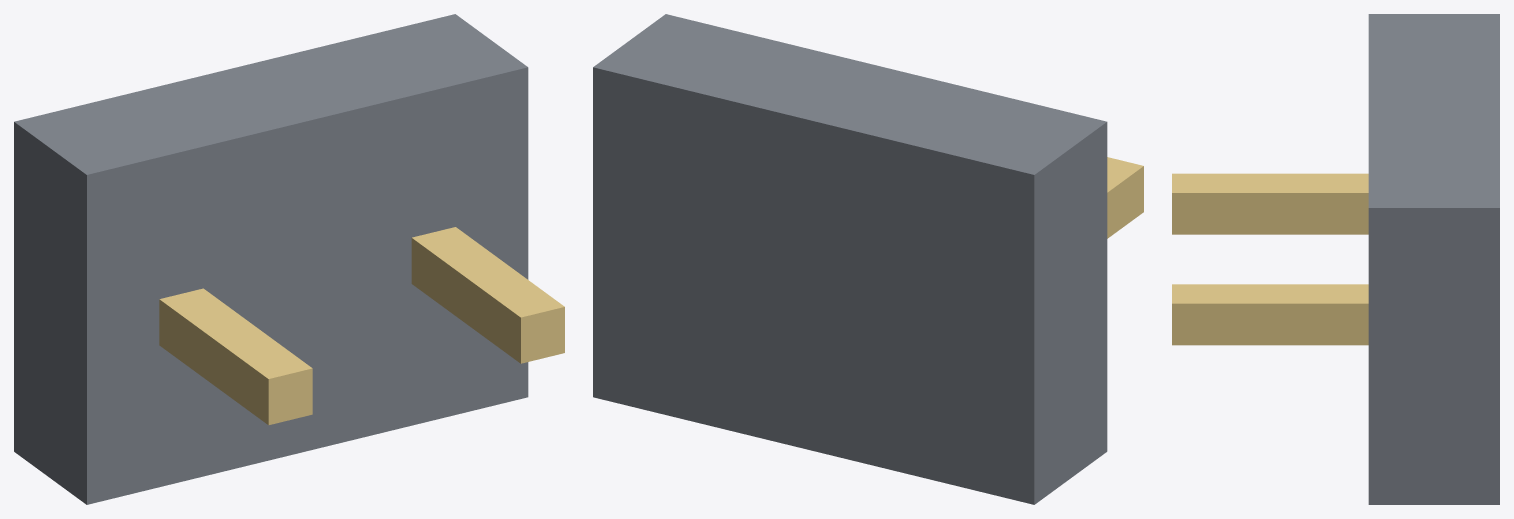
File: 147_L110_W173_Socket.glb
3 renders of one model, left to right at view 1: azimuth 30°, elevation 25°; view 2: azimuth 150°, elevation 25°; view 3: azimuth 270°, elevation 25°, orthographic. The views are drawn at different scales.
Parts seen in each view (by area): view 1: L110_W173_Socket_POLYMER, L110_W173_Socket_GOLD; view 2: L110_W173_Socket_POLYMER, L110_W173_Socket_GOLD; view 3: L110_W173_Socket_POLYMER, L110_W173_Socket_GOLD.
Boxes of the visible parts, bbox=[...] form: L110_W173_Socket_POLYMER: bbox=[14, 14, 528, 504]; L110_W173_Socket_GOLD: bbox=[159, 227, 564, 425]; L110_W173_Socket_POLYMER: bbox=[593, 14, 1107, 504]; L110_W173_Socket_GOLD: bbox=[1107, 157, 1143, 238]; L110_W173_Socket_POLYMER: bbox=[1368, 14, 1499, 504]; L110_W173_Socket_GOLD: bbox=[1172, 173, 1368, 345].
Bounding box in the file's own units: 7 × 5 × 5.
